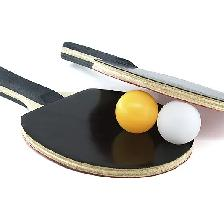WhiteBall: (157, 100, 201, 144)
YellowBall: (115, 88, 157, 135)
